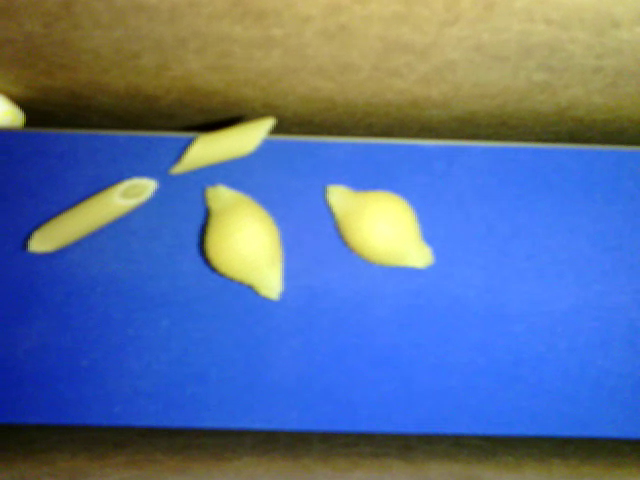penne: (26, 176, 158, 253), (171, 116, 277, 173)
shell: (203, 183, 283, 302), (325, 183, 433, 270)
